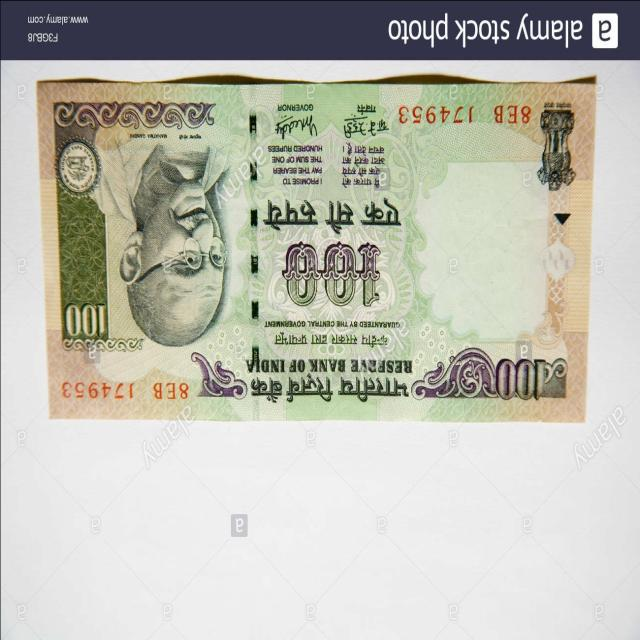100IndianRupees: (46, 85, 594, 422)
